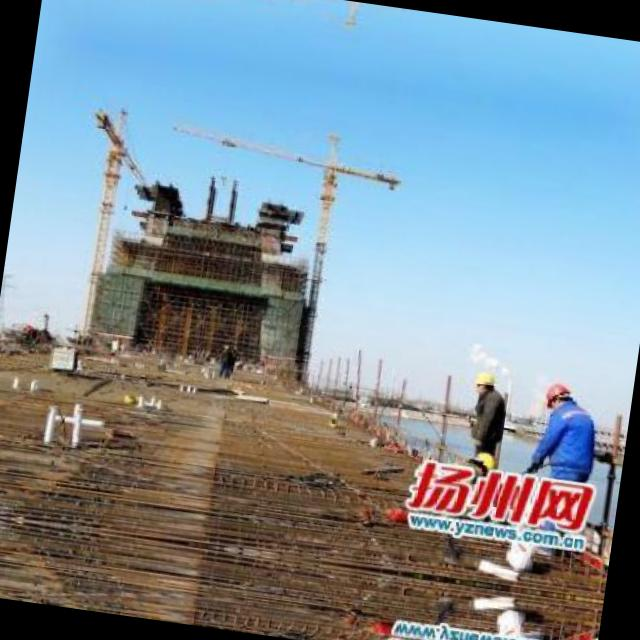helmet: (542, 379, 576, 415), (468, 368, 498, 402), (466, 450, 496, 478)
